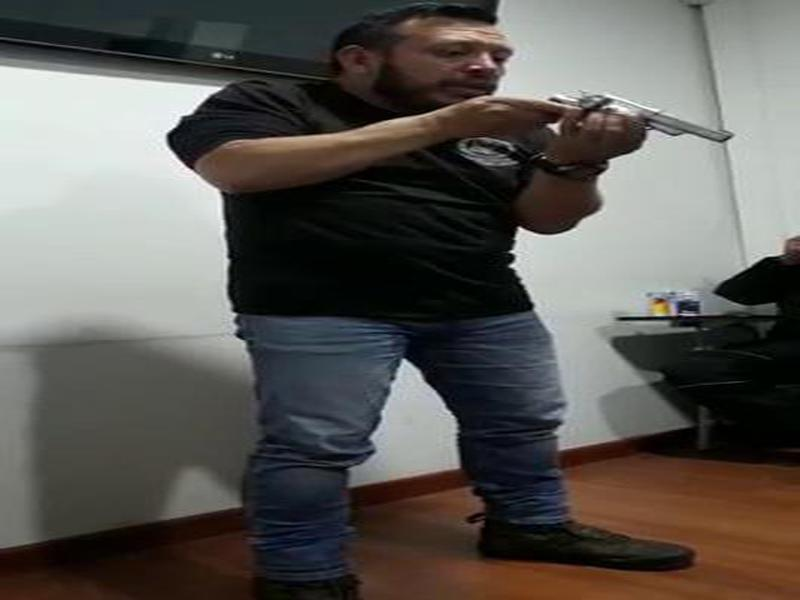Revolver: (523, 73, 746, 184)
